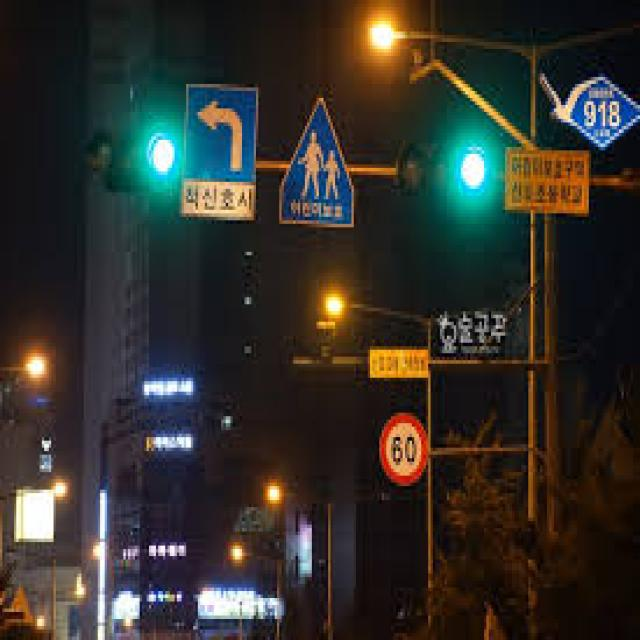Green Light: (452, 142, 492, 201), (140, 124, 179, 182)
